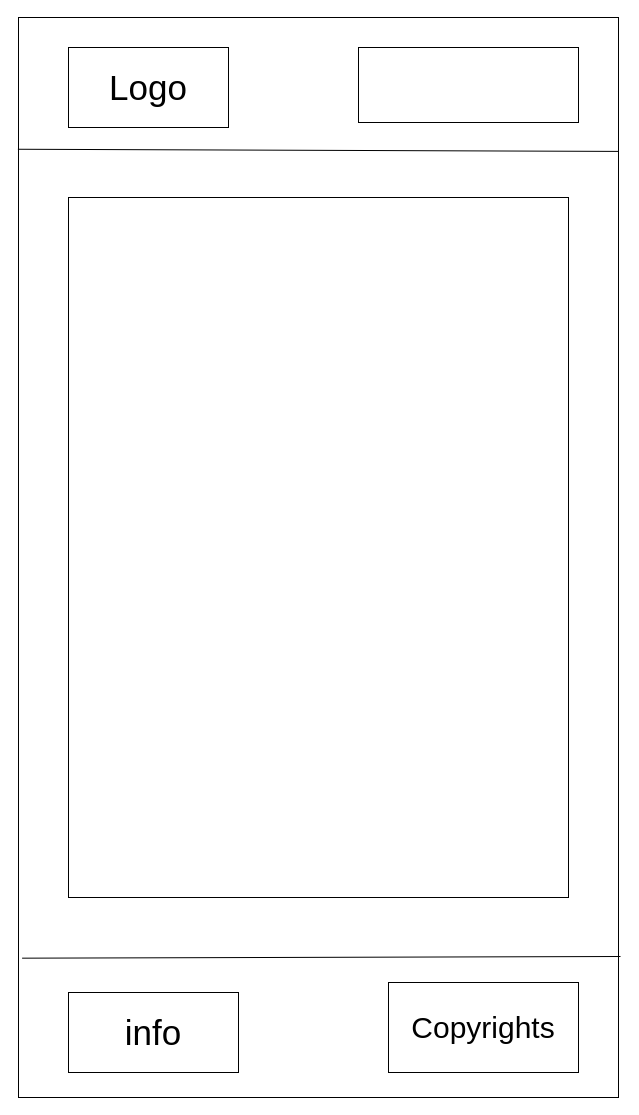
Some shapes in this 639 by 1115 pixel diagram are drawn without their labels. The centre of each missing label's shape, as x and y in pixels:
Form om bestaande medewerker te wijzigen: pixel 318 547
Nav Links: pixel 468 84
